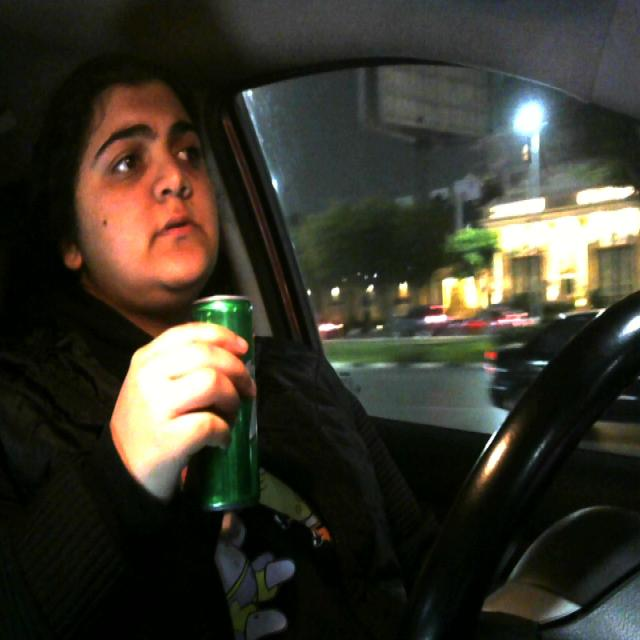drinking: (195, 291, 261, 517)
